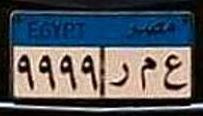9: (59, 51, 80, 93), (16, 52, 37, 94), (36, 52, 58, 91), (81, 53, 99, 92)
ain: (163, 52, 187, 92)
meem: (136, 54, 158, 93)
raa: (108, 58, 133, 91)
